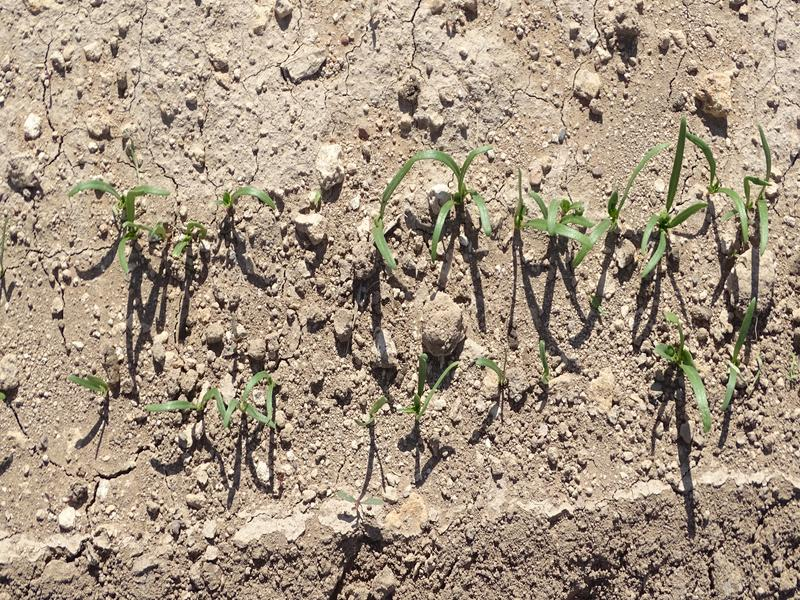Espinaca: (519, 138, 776, 262), (85, 165, 276, 263), (651, 293, 766, 437), (365, 151, 498, 263), (143, 373, 286, 437), (405, 357, 466, 416), (481, 354, 511, 388), (535, 338, 552, 382)
